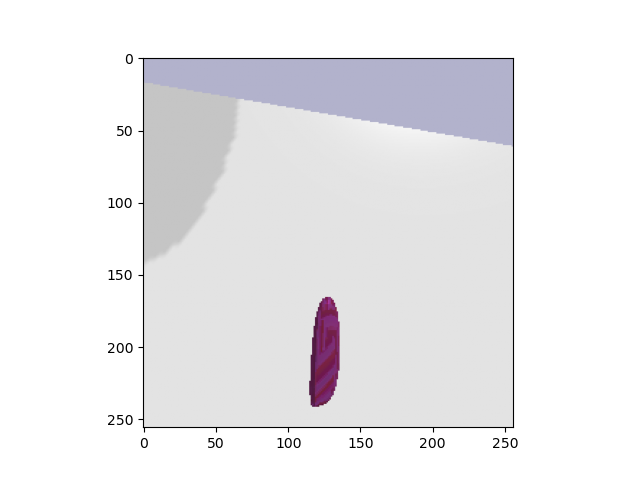v249b387_105: (299, 289, 349, 411)
